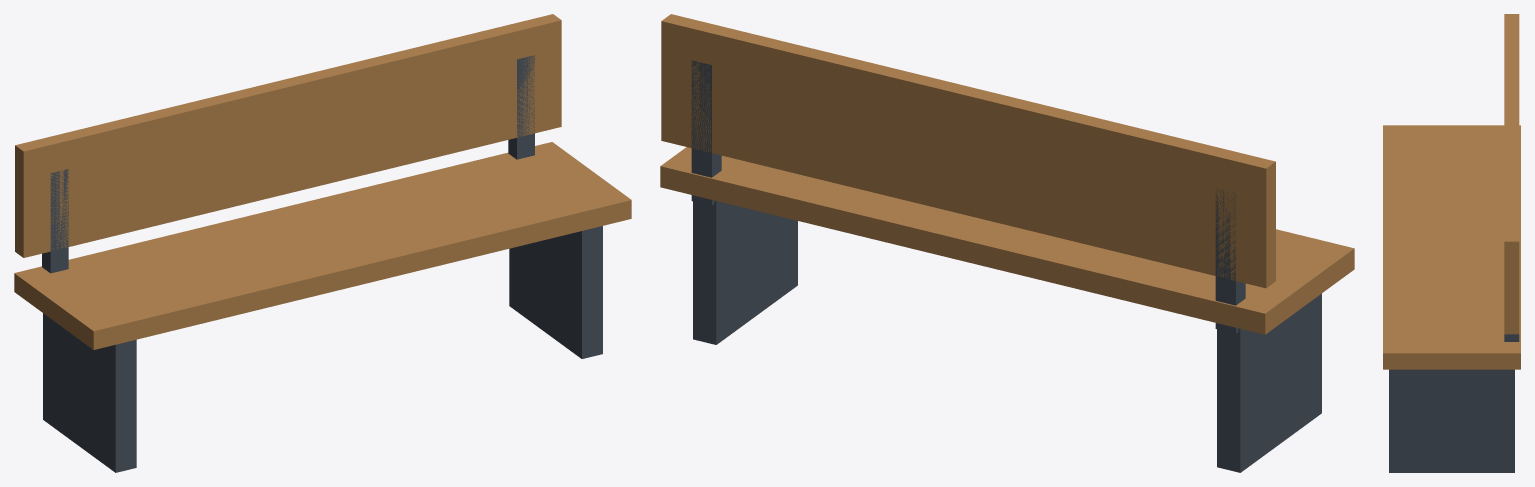
The model's file is bench_01.glb.
3 views of the same model, side by side, from view 1: azimuth 30°, elevation 25°; view 2: azimuth 150°, elevation 25°; view 3: azimuth 270°, elevation 25° (orthographic). The views are drawn at different scales.
Parts seen in each view (by area): view 1: bench_01; view 2: bench_01; view 3: bench_01.
Boxes of the visible parts, bbox=[...] form: bench_01: bbox=[14, 14, 631, 472]; bench_01: bbox=[660, 14, 1354, 472]; bench_01: bbox=[1383, 14, 1520, 472].
Size of the model in its own units: 1.8 by 0.89 by 0.46.
